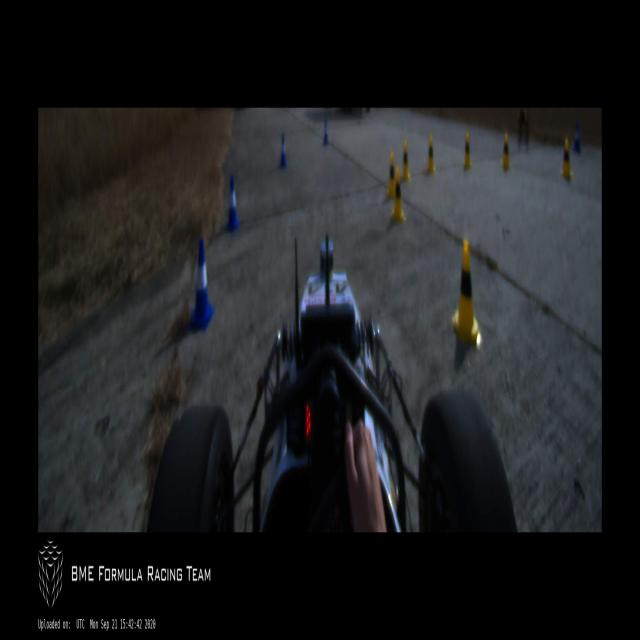blue_cone: (187, 238, 214, 336), (224, 176, 240, 236), (279, 134, 287, 169), (573, 123, 581, 154), (323, 118, 329, 144)
yellow_cone: (451, 242, 482, 346), (391, 168, 405, 223), (560, 138, 573, 178), (386, 152, 396, 202), (400, 142, 410, 182), (426, 136, 436, 176), (500, 134, 510, 169), (463, 132, 472, 170)
